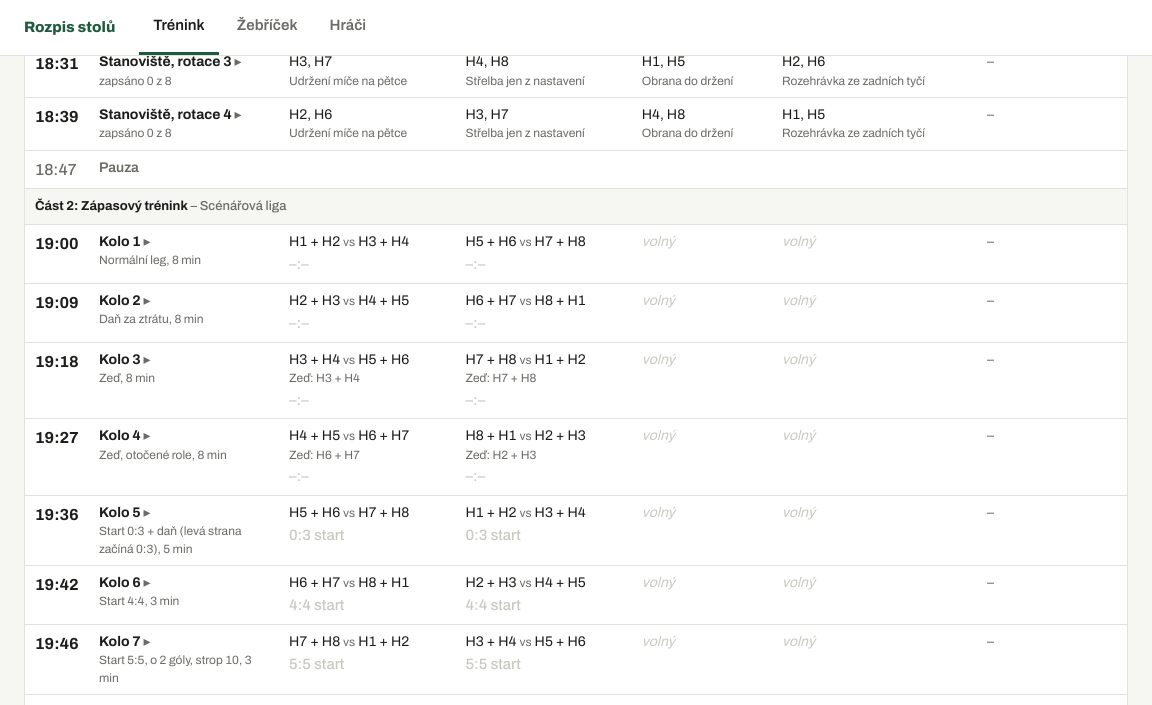
tabulka tréninku › Zeď: v kole 3 hraje zeď levá strana, v kole 4 pravá
(page scrolled)
Click the button "Kolo 3".
click(125, 360)  # box [99, 350, 151, 370]
(page scrolled)
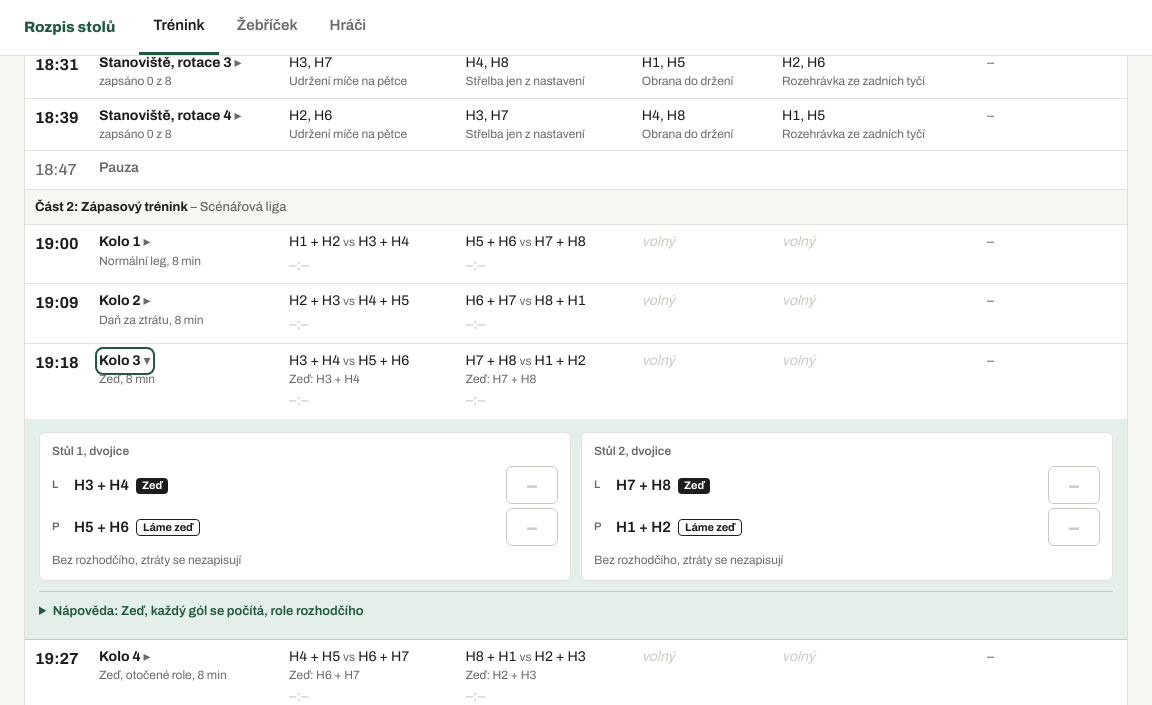
Result: the element with class "result-side" shows "Zeď" at [142, 479, 162, 491]
Result: the element with class "result-side" shows "Láme zeď" at [143, 521, 193, 533]
Click the button "Kolo 4".
click(125, 657)  # box [99, 647, 151, 667]
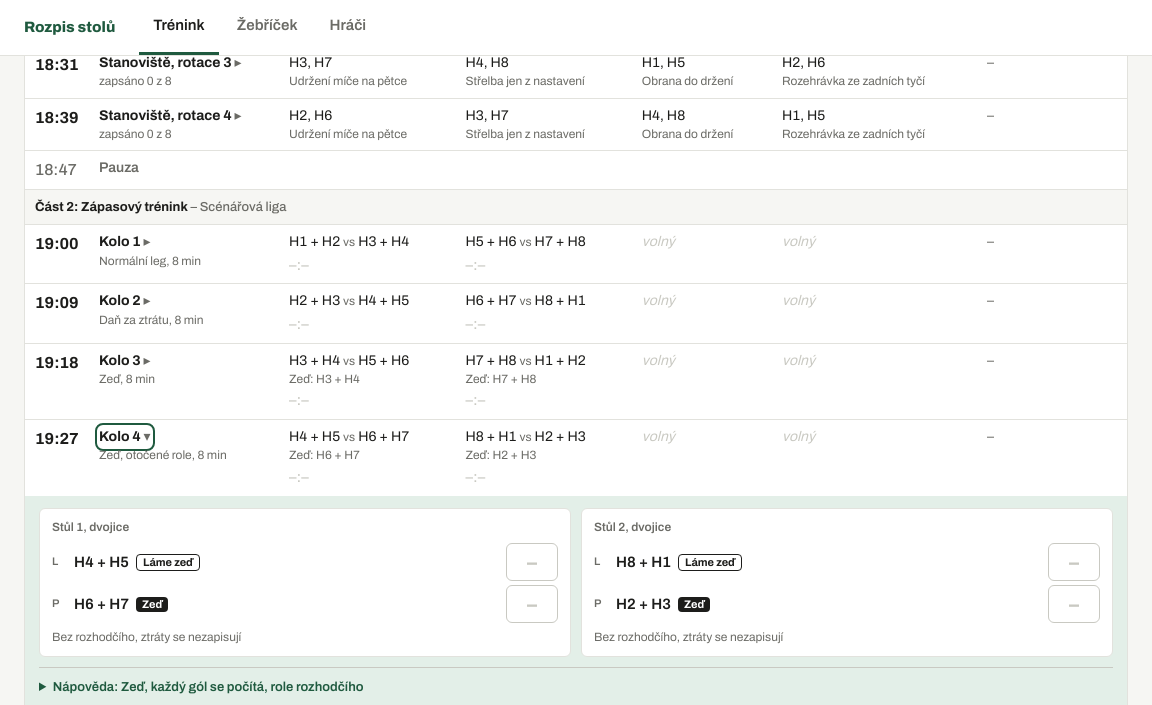
Result: the element with class "result-side" shows "Zeď" at [142, 598, 162, 610]
Result: the element with class "result-side" shows "Láme zeď" at [143, 556, 193, 568]
